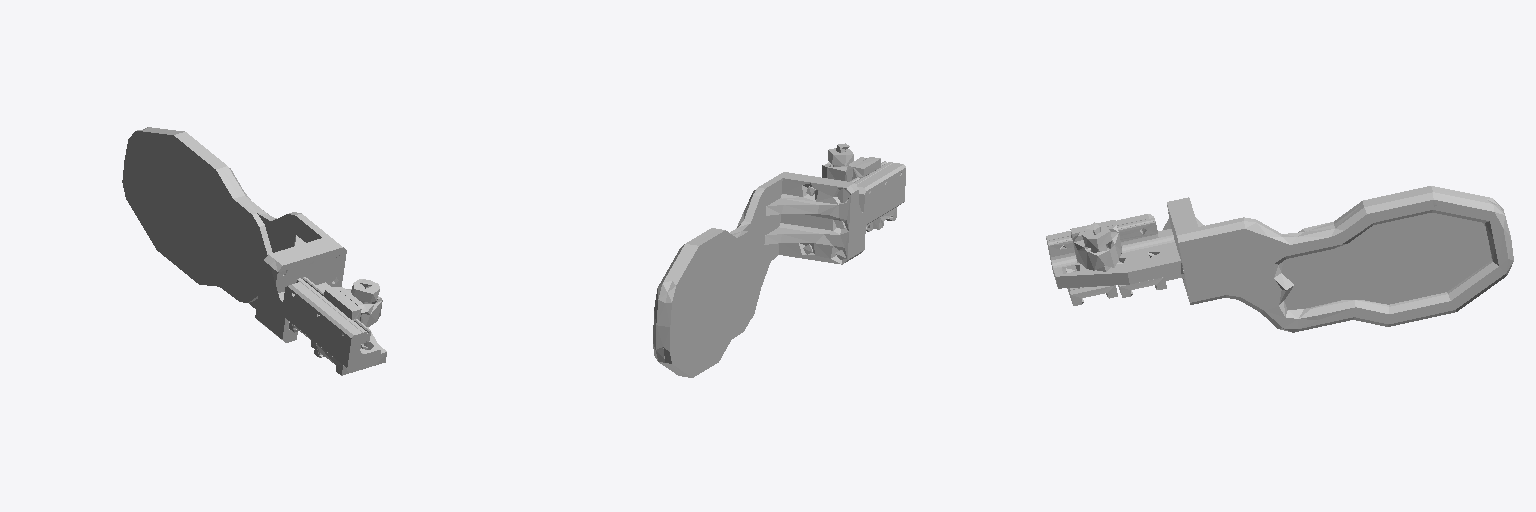
Rendered from gripper_left_finger_link.obj.
3 views of the same model, side by side, from view 1: azimuth 30°, elevation 25°; view 2: azimuth 150°, elevation 25°; view 3: azimuth 270°, elevation 25° (orthographic).
Visible parts, largest first — view 1: gripper_left_finger_link; view 2: gripper_left_finger_link; view 3: gripper_left_finger_link.
Boxes of the visible parts, box(x1,y1,x2,y2) form: gripper_left_finger_link: box(122, 127, 386, 375); gripper_left_finger_link: box(653, 143, 905, 377); gripper_left_finger_link: box(1046, 186, 1513, 332).
Bounding box in the file's own units: 0.0339 × 0.0539 × 0.1706.